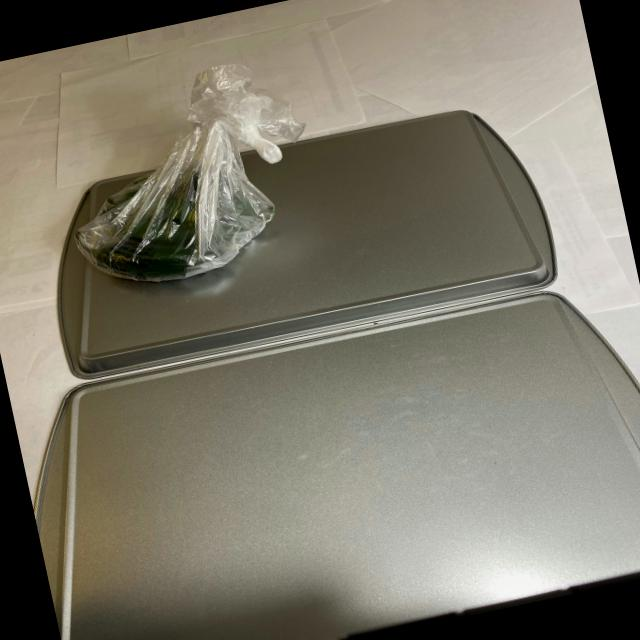chilli: (65, 158, 283, 295)
